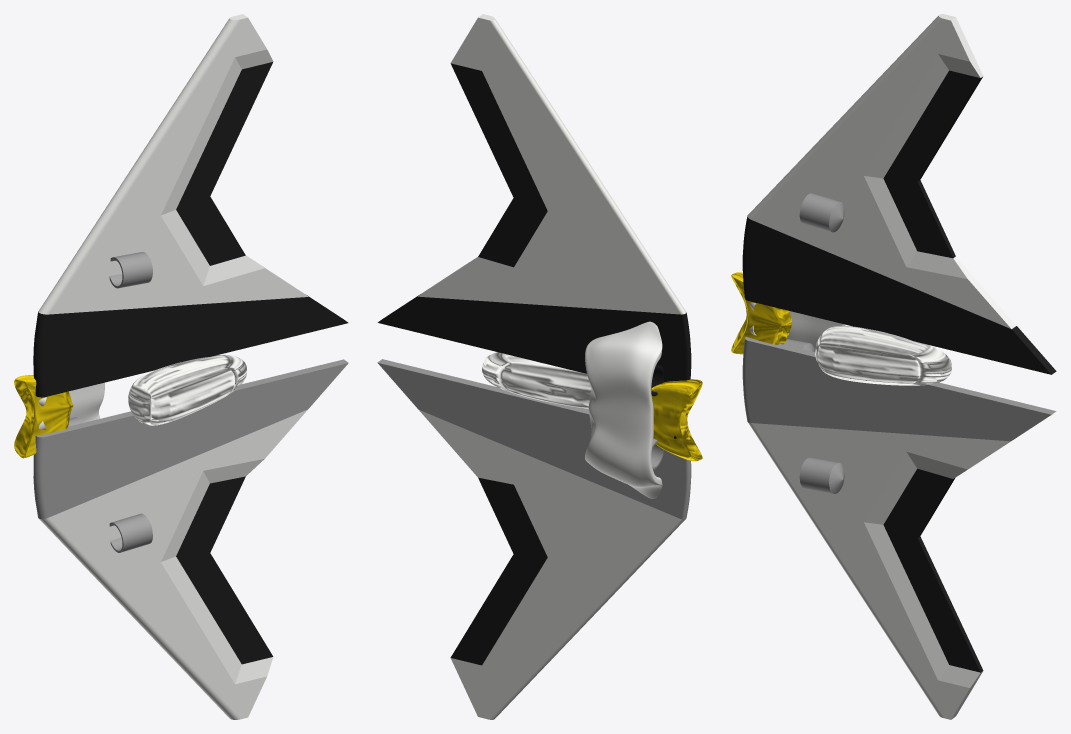
Rendered from manta2_flight.fbx.
3 views of the same model, side by side, from view 1: azimuth 30°, elevation 25°; view 2: azimuth 150°, elevation 25°; view 3: azimuth 330°, elevation 25° (orthographic).
Parts seen in each view (by area): view 1: Body1, Body4, Body11, Body14, Body2, Body5, Body7, Body15, Body9, Body10, Body8; view 2: Body1, Body4, Body14, Body11, Body8, Body2, Body5, Body7, Body15; view 3: Body1, Body4, Body11, Body14, Body5, Body2, Body7, Body15, Body9, Body10, Body8.
Boxes of the visible parts, box(x1,y1,x2,y2) form: Body1: box(38, 14, 308, 314); Body4: box(39, 409, 307, 719); Body11: box(33, 295, 348, 397); Body14: box(33, 359, 348, 519); Body2: box(176, 62, 272, 265); Body5: box(176, 476, 273, 664); Body7: box(128, 354, 246, 425); Body15: box(14, 375, 73, 458); Body9: box(109, 513, 152, 552); Body10: box(109, 252, 152, 288); Body8: box(69, 382, 104, 422); Body1: box(417, 14, 686, 314); Body4: box(419, 410, 685, 719); Body14: box(377, 359, 691, 519); Body11: box(377, 294, 691, 382); Body8: box(585, 321, 662, 498); Body2: box(450, 63, 547, 267); Body5: box(450, 477, 547, 665); Body7: box(482, 352, 591, 409); Body15: box(651, 379, 702, 461); Body1: box(747, 14, 1016, 329); Body4: box(748, 422, 1010, 719); Body11: box(742, 215, 1056, 374); Body14: box(742, 336, 1056, 441); Body5: box(883, 468, 983, 672); Body2: box(883, 70, 982, 258); Body7: box(815, 325, 951, 385); Body15: box(731, 272, 791, 354); Body9: box(799, 457, 844, 493); Body10: box(799, 193, 844, 232); Body8: box(787, 311, 845, 351).
Size of the model in its own units: 1703 by 3506 by 393.
